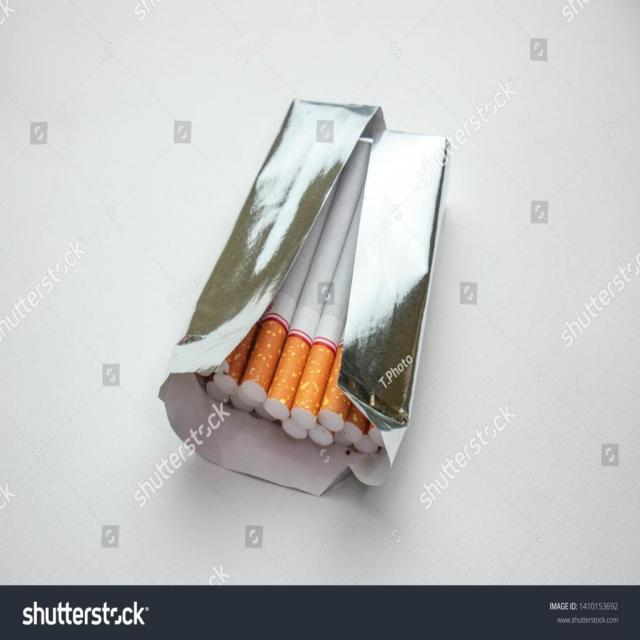smoking: (138, 69, 518, 528)
